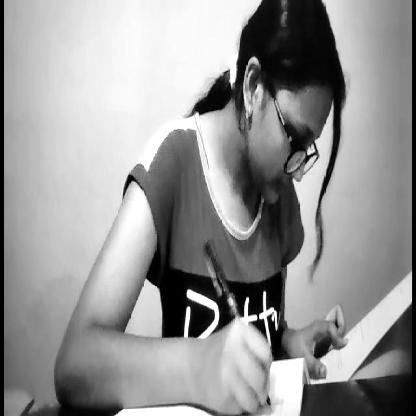Distracted: (222, 0, 348, 270)
